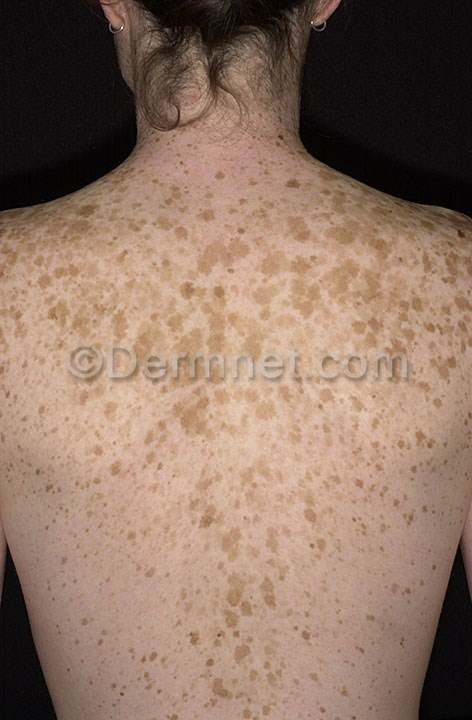Melasma: (13, 211, 440, 347), (148, 398, 298, 719)
